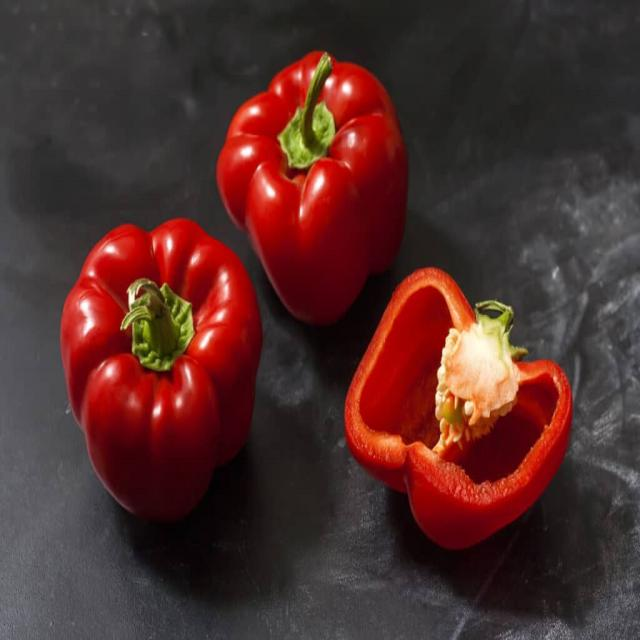pepper: (346, 268, 571, 548), (61, 217, 262, 519), (216, 50, 409, 324)
